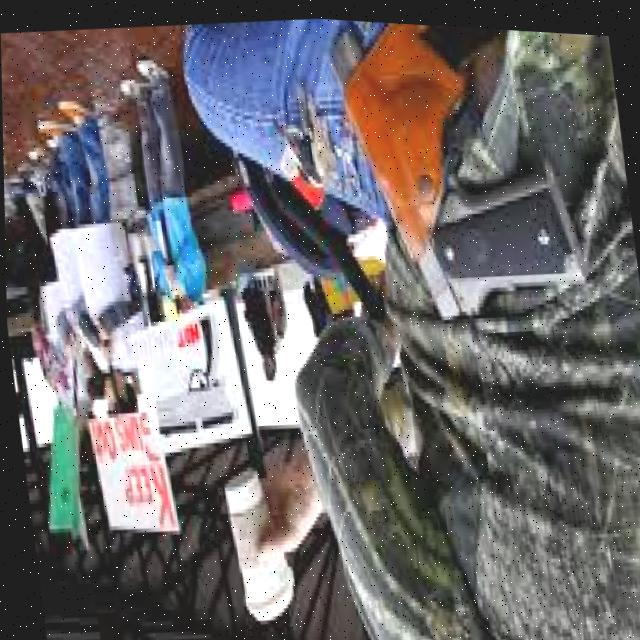pistol: (322, 15, 593, 327)
